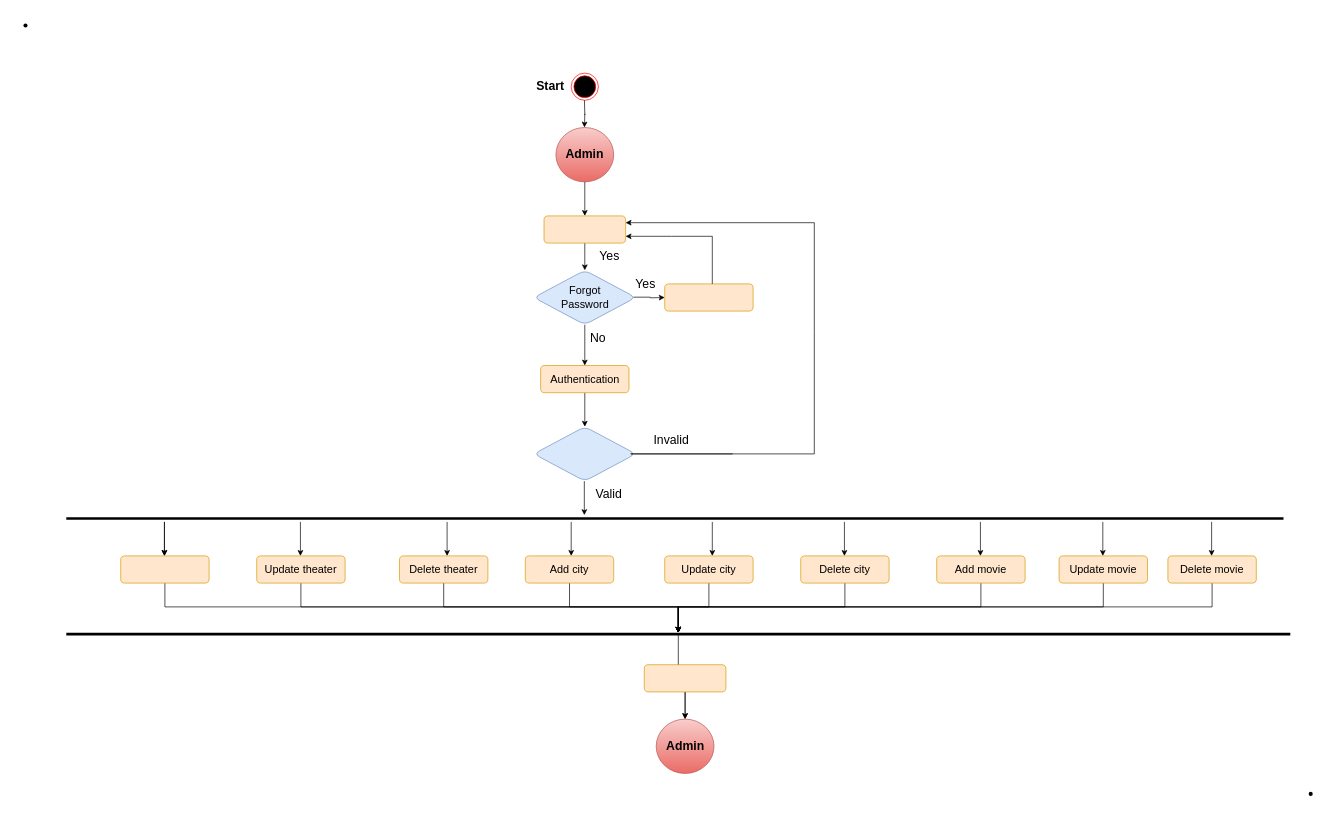
Image size: 1336x819. Some labels were removed from this diagram. The centre of each missing label's shape, as x and y in pixels:
Add theater: point 164,569
Check: point 584,453
Login: point 584,229
Logout: point 685,678
Reset Password: point 708,297
